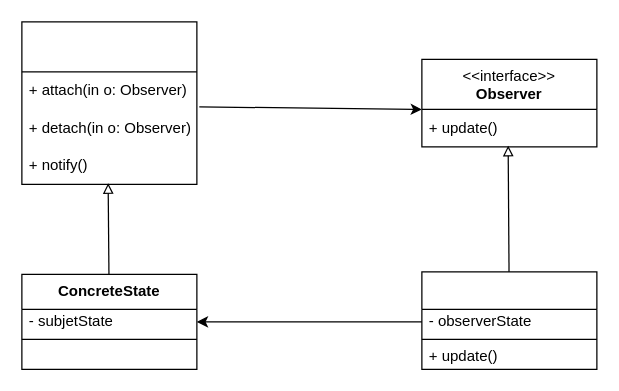
The diagram is 619 pixels wide and 391 high, and some of its shapes have lost their labels. Here are the shapes that lost their labels. From the top down, the box of each, then its label:
(21, 21, 197, 184): <<interfacen>> Subject
(421, 271, 597, 369): ConcreteObserver
